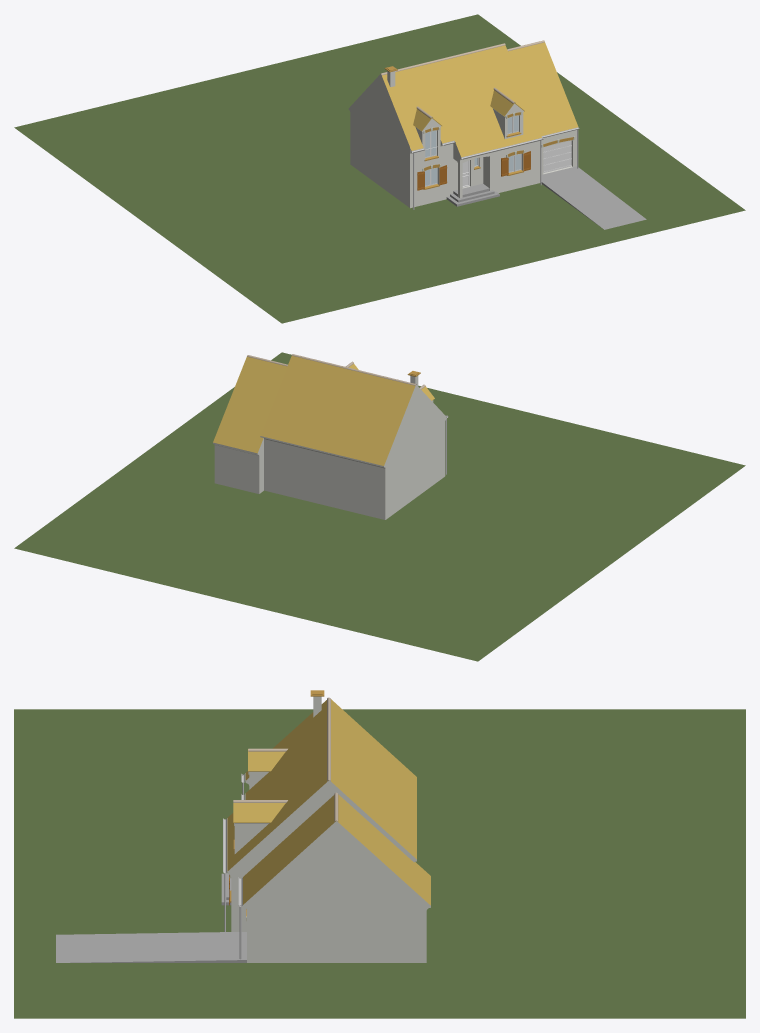
File: gb-house.dae
3 views of the same model, one above another, from view 1: azimuth 30°, elevation 25°; view 2: azimuth 150°, elevation 25°; view 3: azimuth 270°, elevation 25° (orthographic). The views are drawn at different scales.
Visible parts, largest first — view 1: Plane_053, Plane_006, Plane_005; view 2: Plane_053, Plane_006, Plane_005; view 3: Plane_053, Plane_005, Plane_006, Plane_010, Plane_021, Plane_009.
Boxes of the visible parts, x1=… form: Plane_053: x1=14, y1=14, x2=745, y2=323; Plane_006: x1=348, y1=45, x2=541, y2=208; Plane_005: x1=508, y1=42, x2=646, y2=229; Plane_053: x1=14, y1=352, x2=745, y2=661; Plane_006: x1=260, y1=356, x2=446, y2=519; Plane_005: x1=213, y1=356, x2=287, y2=493; Plane_053: x1=14, y1=709, x2=745, y2=1018; Plane_005: x1=56, y1=794, x2=430, y2=962; Plane_006: x1=227, y1=699, x2=416, y2=931; Plane_010: x1=233, y1=803, x2=285, y2=822; Plane_021: x1=248, y1=749, x2=285, y2=771; Plane_009: x1=234, y1=823, x2=268, y2=853.
Size of the model in its own units: 24.22 by 24.22 by 6.79.
